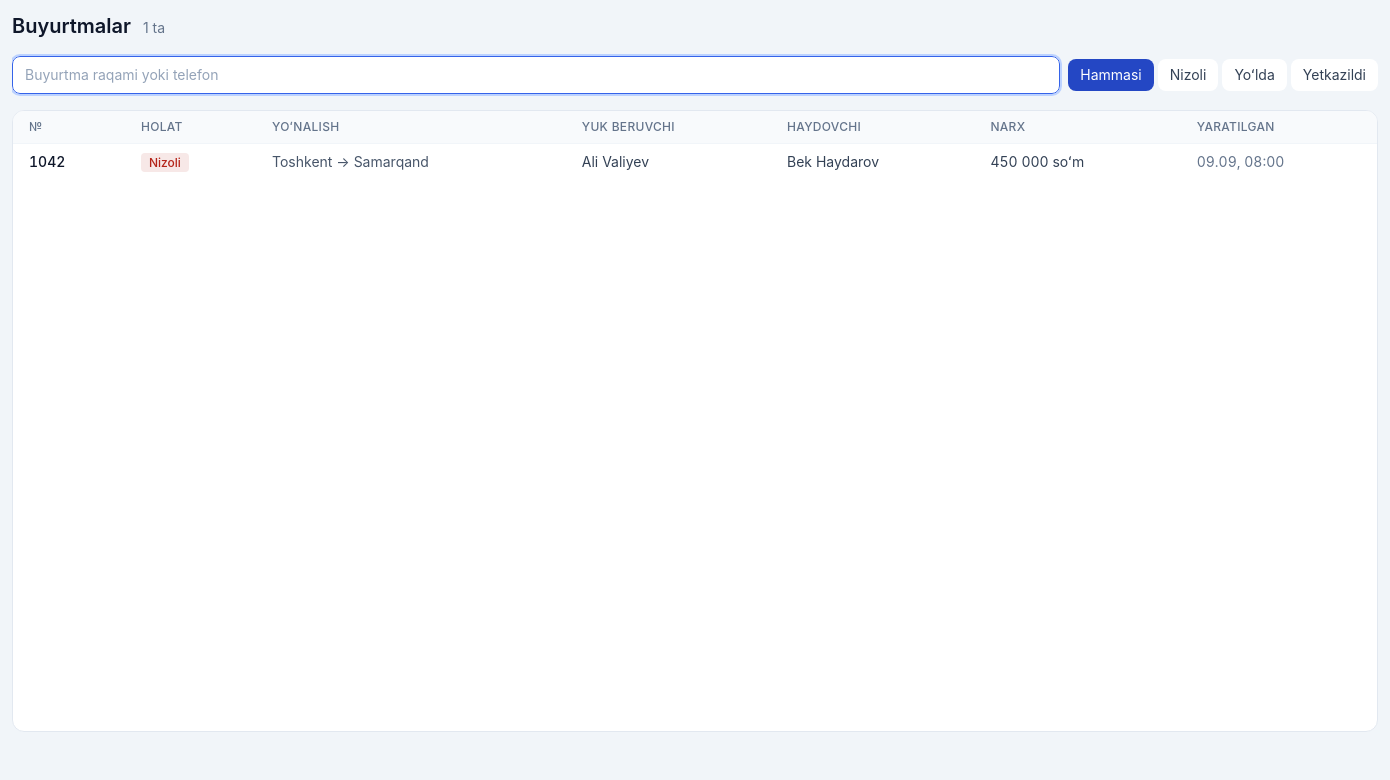
Test: OrdersPage › ★ YOZISHMA HAM TALAB BOʻYICHA
This screenshot has width=1390, height=780.
Step 1. Click the text "1042" → (47, 162), box [13,144,125,180]
(page scrolled)
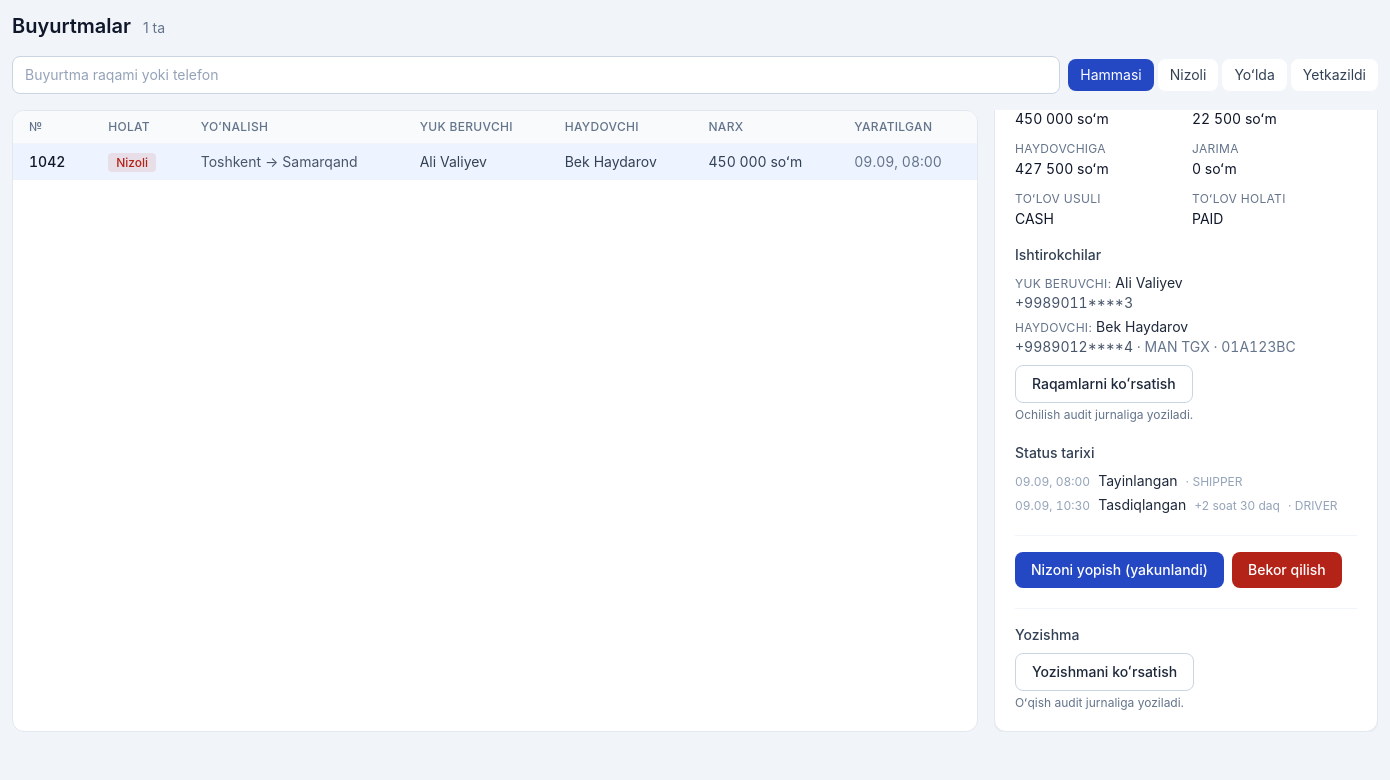
Check: the text "Tayinlangan" is shown, box [1098,471,1178,491]
Step 2. Click the button "Yozishmani koʻrsatish" → (1105, 672), box [1015,653,1194,691]
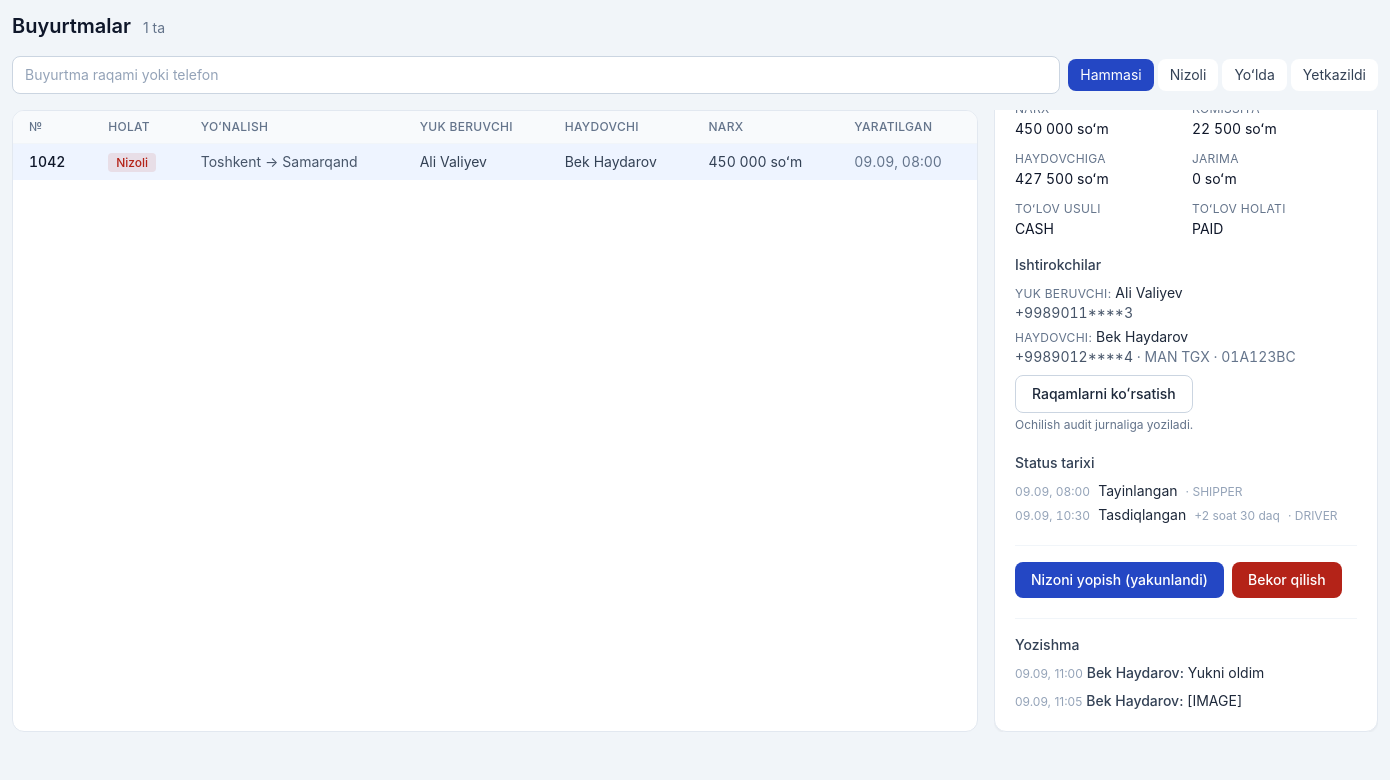
Check: the text "Yukni oldim" is shown, box [1188,664,1264,681]
Check: the text "[IMAGE]" is shown, box [1187,692,1242,709]
